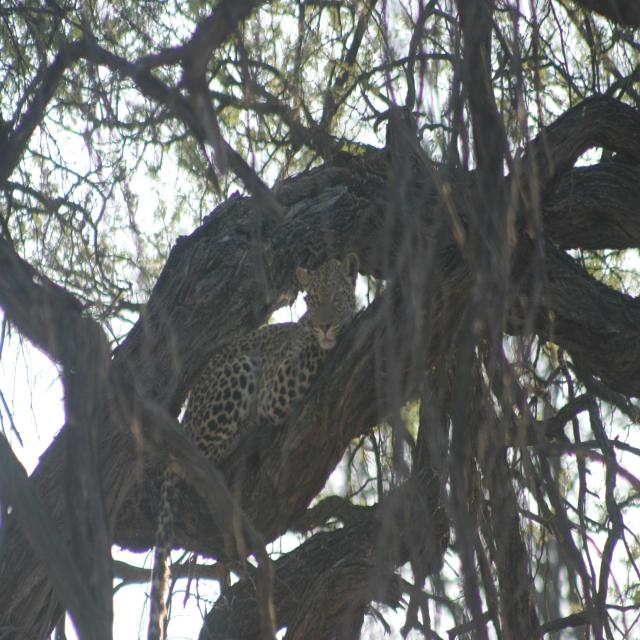Leopard: (141, 268, 360, 640)
